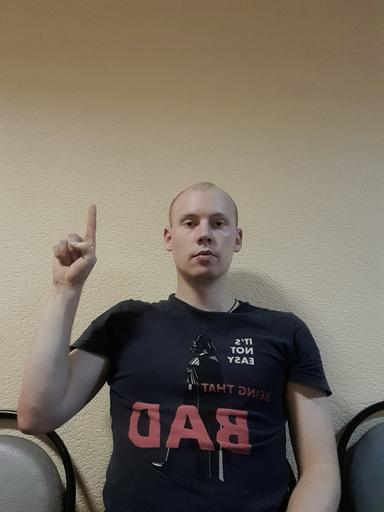one: (51, 202, 99, 288)
